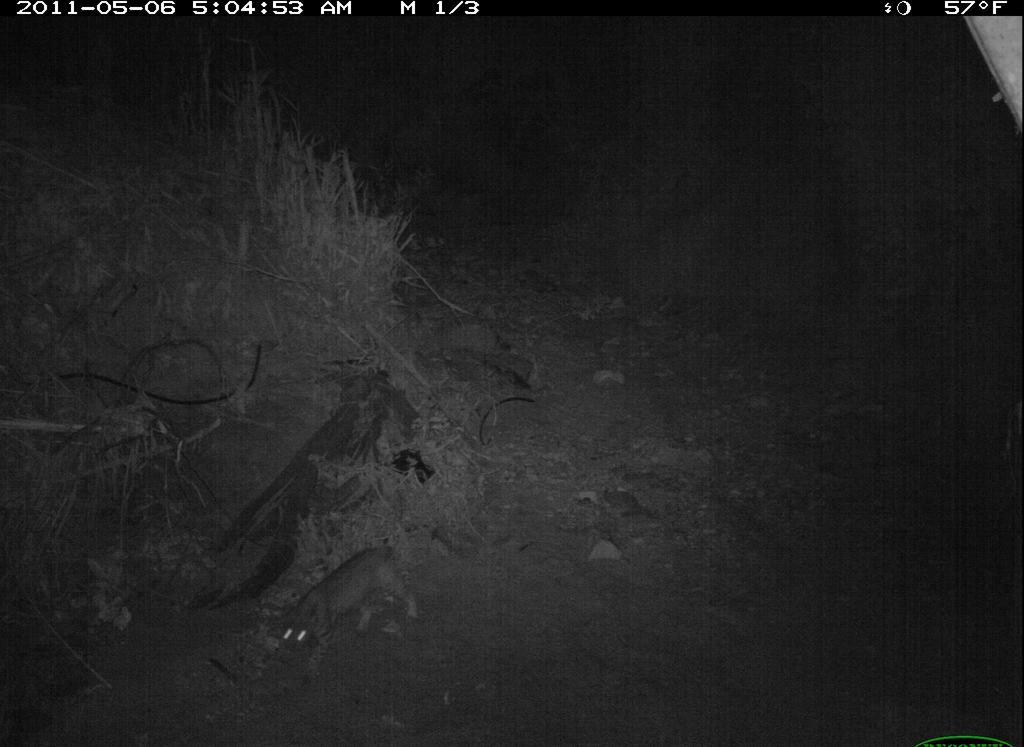bobcat: (271, 539, 431, 679)
